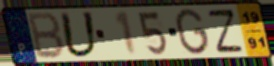1: (114, 10, 137, 58)
5: (136, 10, 170, 56)
B: (27, 11, 66, 61)
G: (174, 8, 211, 57)
U: (58, 11, 100, 60)
Z: (205, 7, 245, 54)
